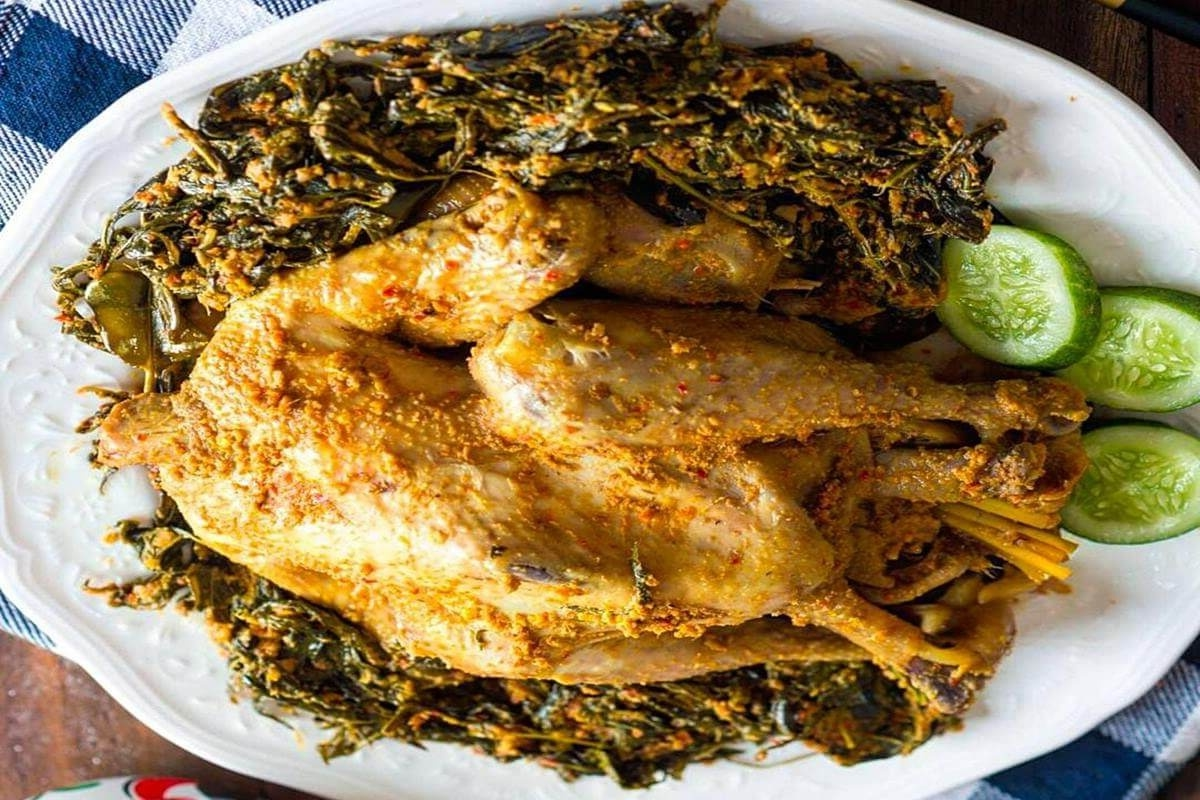ayam_betutu: (97, 187, 1089, 716)
